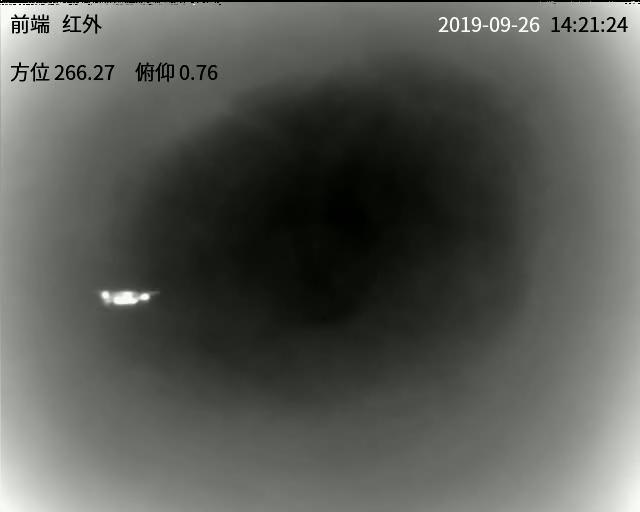uav: (95, 283, 157, 313)
